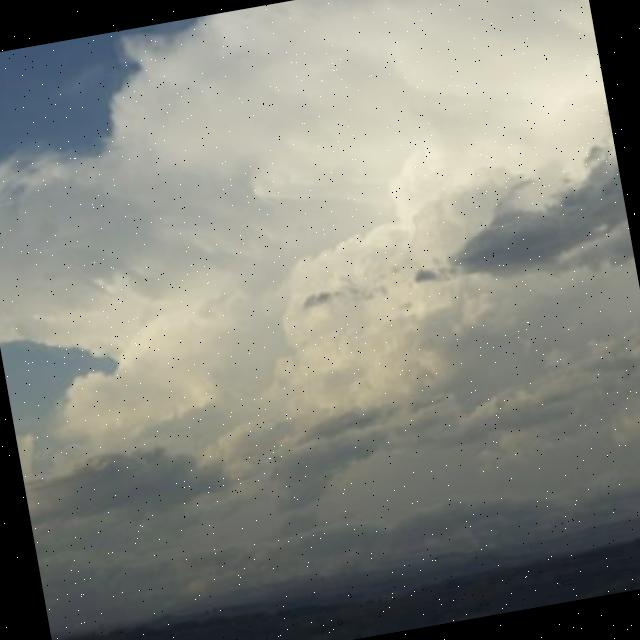Cb: (1, 1, 640, 530)
